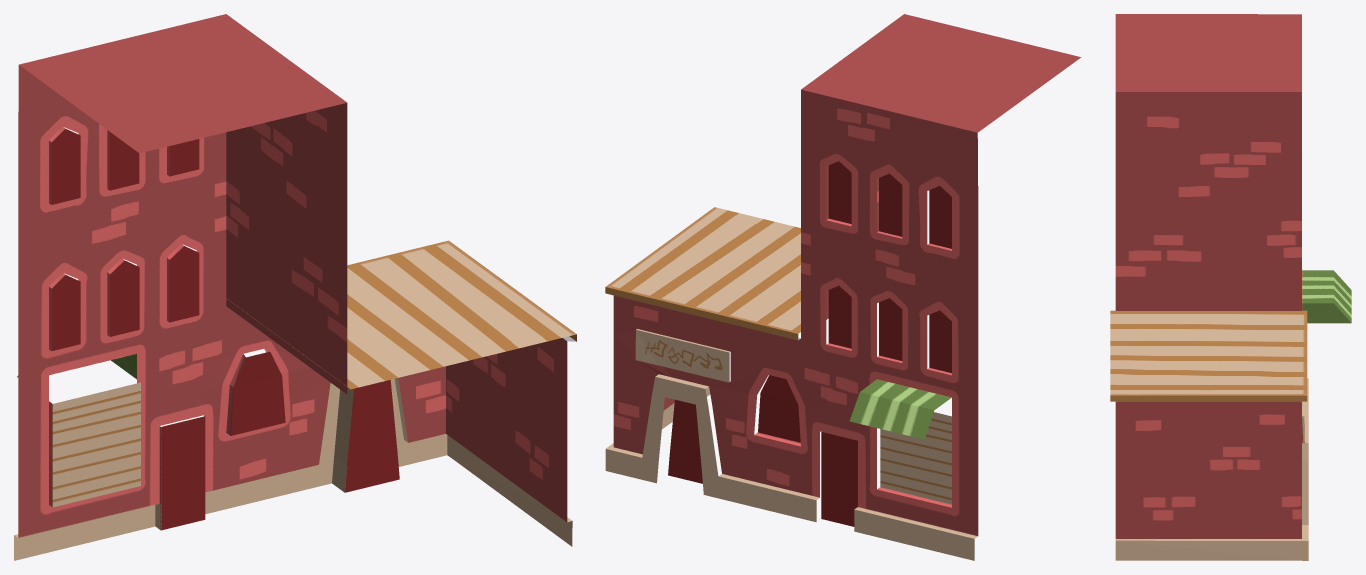
The model's file is Building_L_Main (2).fbx.
The picture shows the model from 3 angles, left to right: view 1: azimuth 30°, elevation 25°; view 2: azimuth 150°, elevation 25°; view 3: azimuth 270°, elevation 25°; orthographic projection. The views are drawn at different scales.
Parts seen in each view (by area): view 1: Building_L; view 2: Building_L; view 3: Building_L.
Boxes of the visible parts, box(x1,y1,x2,y2) form: Building_L: box(14, 14, 576, 560); Building_L: box(605, 14, 1081, 560); Building_L: box(1110, 14, 1351, 560).
Size of the model in its own units: 790 by 868 by 495.
1 material, 1 textured.
